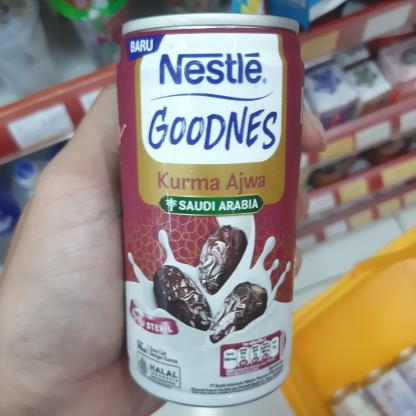alumunium_can: (102, 3, 300, 403)
